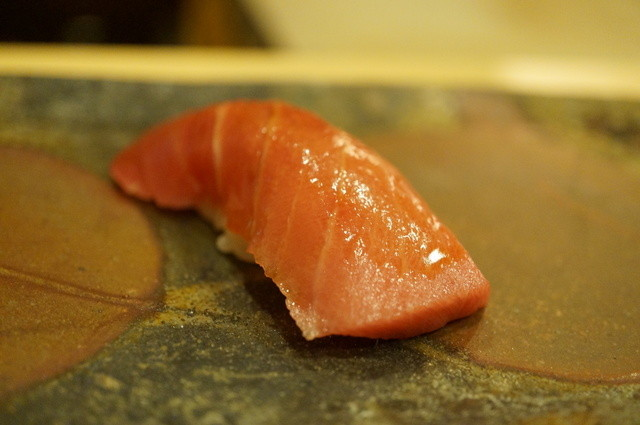medium_fatty_tuna: (113, 96, 493, 347)
